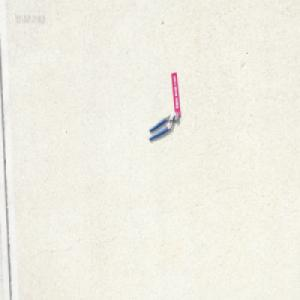Label: (170, 70, 181, 117)
Pliers: (147, 111, 179, 141)
